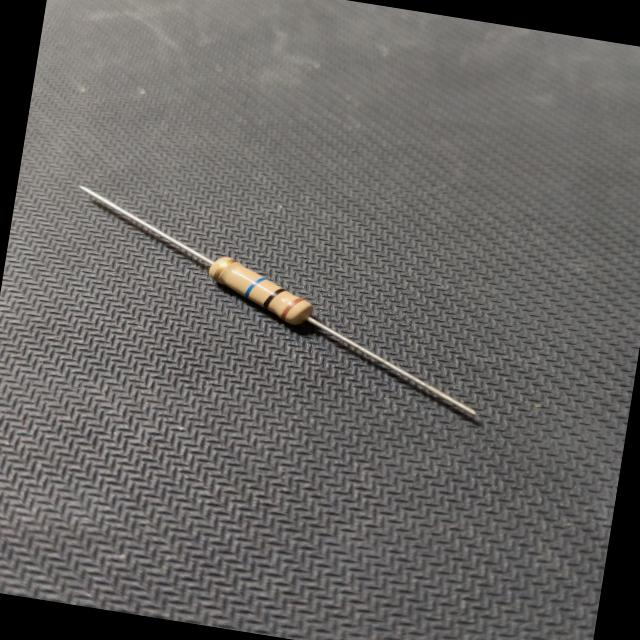resistor: (45, 180, 511, 425)
